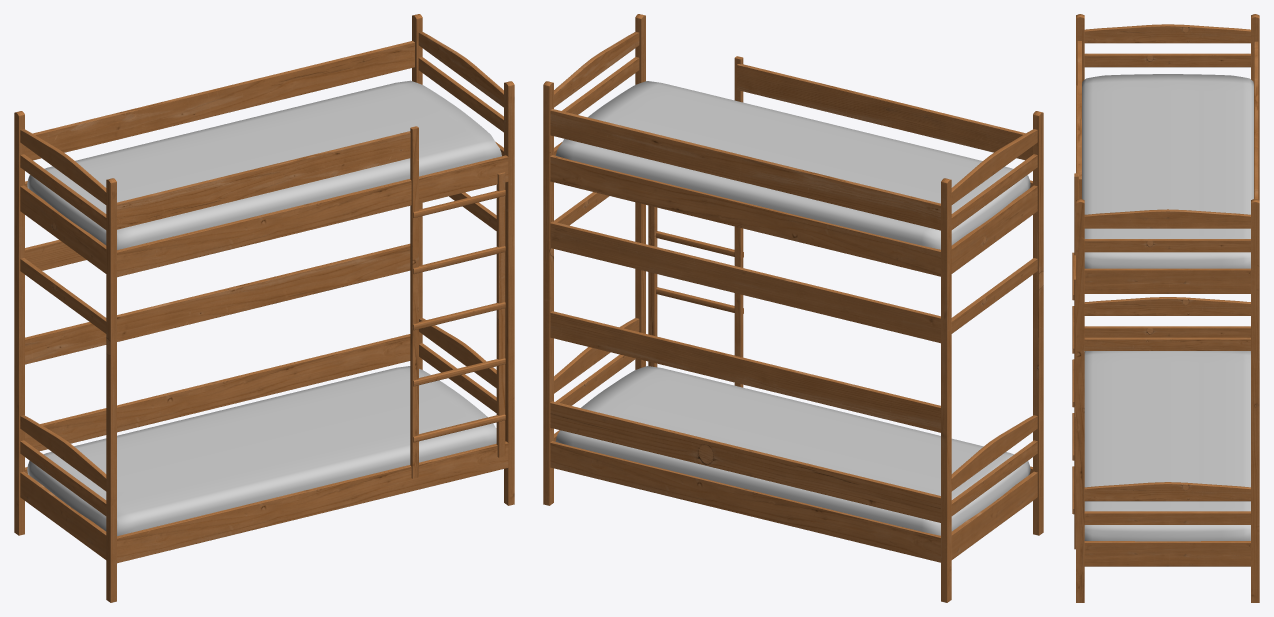
File: 2 Story Bed.fbx
The picture shows the model from 3 angles, left to right: view 1: azimuth 30°, elevation 25°; view 2: azimuth 150°, elevation 25°; view 3: azimuth 270°, elevation 25°; orthographic projection. The views are drawn at different scales.
Parts seen in each view (by area): view 1: Cube.002, Cube.021, Cube.001, Cube.011, Cube.039, Cube.042, Cube.044, Cube.043, Cube.026, Cube.027, Cube.033, Cube.007 (+10 smaller); view 2: Cube.021, Cube.002, Cube.001, Cube.042, Cube.044, Cube.043, Cube.045, Cube.040, Cube.029, Cube.027, Cube.026, Cube.033 (+11 smaller); view 3: Cube.021, Cube.002, Cube.001, Cube.030, Cube.036, Cube.032, Cube.035, Cube.038, Cube.010, Cube.034, Cube.031, Cube.024 (+5 smaller).
Boxes of the visible parts, <box> form: Cube.002: <box>27,366,496,536</box>; Cube.021: <box>27,80,501,249</box>; Cube.001: <box>14,14,514,602</box>; Cube.011: <box>117,441,508,563</box>; Cube.039: <box>117,155,508,277</box>; Cube.042: <box>25,41,414,160</box>; Cube.044: <box>25,243,410,364</box>; Cube.043: <box>25,334,410,451</box>; Cube.026: <box>410,126,505,478</box>; Cube.027: <box>117,131,410,229</box>; Cube.033: <box>20,185,106,273</box>; Cube.007: <box>20,471,106,559</box>; Cube.021: <box>556,81,1030,249</box>; Cube.002: <box>555,366,1030,535</box>; Cube.001: <box>543,14,1043,602</box>; Cube.042: <box>550,109,940,230</box>; Cube.044: <box>550,311,940,432</box>; Cube.043: <box>550,401,940,522</box>; Cube.045: <box>550,221,940,343</box>; Cube.040: <box>550,155,940,276</box>; Cube.029: <box>550,441,940,562</box>; Cube.027: <box>737,64,1032,160</box>; Cube.026: <box>648,56,743,387</box>; Cube.033: <box>951,185,1037,273</box>; Cube.021: <box>1082,74,1253,268</box>; Cube.002: <box>1084,351,1250,541</box>; Cube.001: <box>1076,14,1259,602</box>; Cube.030: <box>1084,541,1250,566</box>; Cube.036: <box>1084,268,1250,293</box>; Cube.032: <box>1084,482,1250,501</box>; Cube.035: <box>1084,24,1250,43</box>; Cube.038: <box>1084,209,1250,228</box>; Cube.010: <box>1084,297,1250,315</box>; Cube.034: <box>1084,53,1250,67</box>; Cube.031: <box>1084,511,1250,524</box>; Cube.024: <box>1084,337,1250,350</box>.
Bounding box in the file's own units: 203 × 202 × 85.64.
